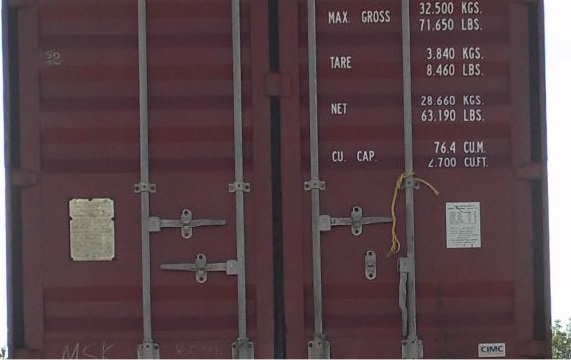container_door: (7, 3, 547, 356)
